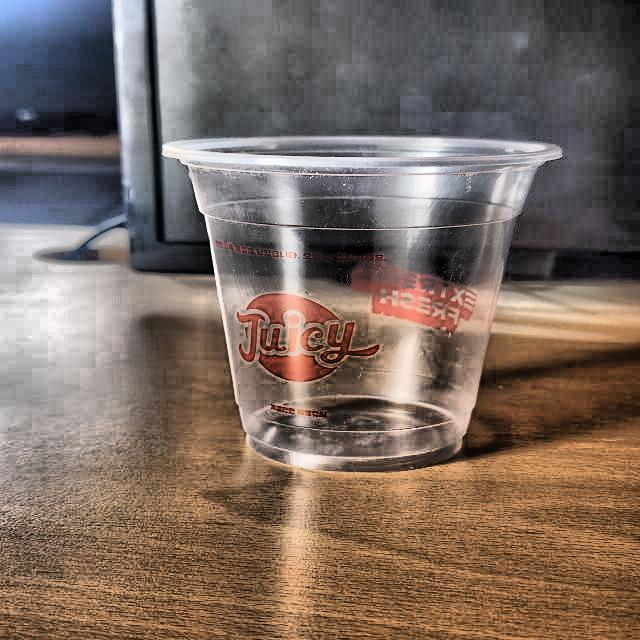plastic cup: (158, 133, 568, 476)
